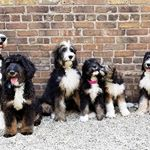puppy: (1, 53, 40, 140), (44, 40, 82, 128), (79, 54, 107, 125), (105, 62, 131, 122), (135, 49, 150, 119)
